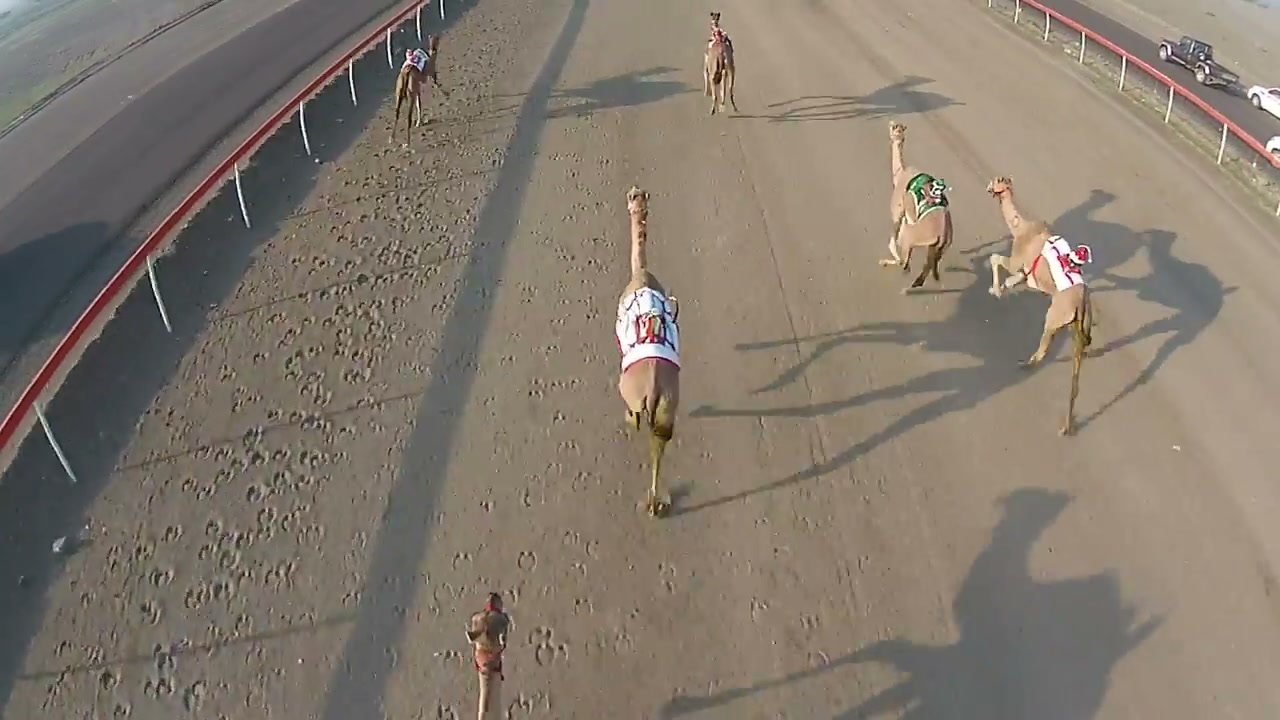animal_foot_print: (102, 131, 468, 713)
